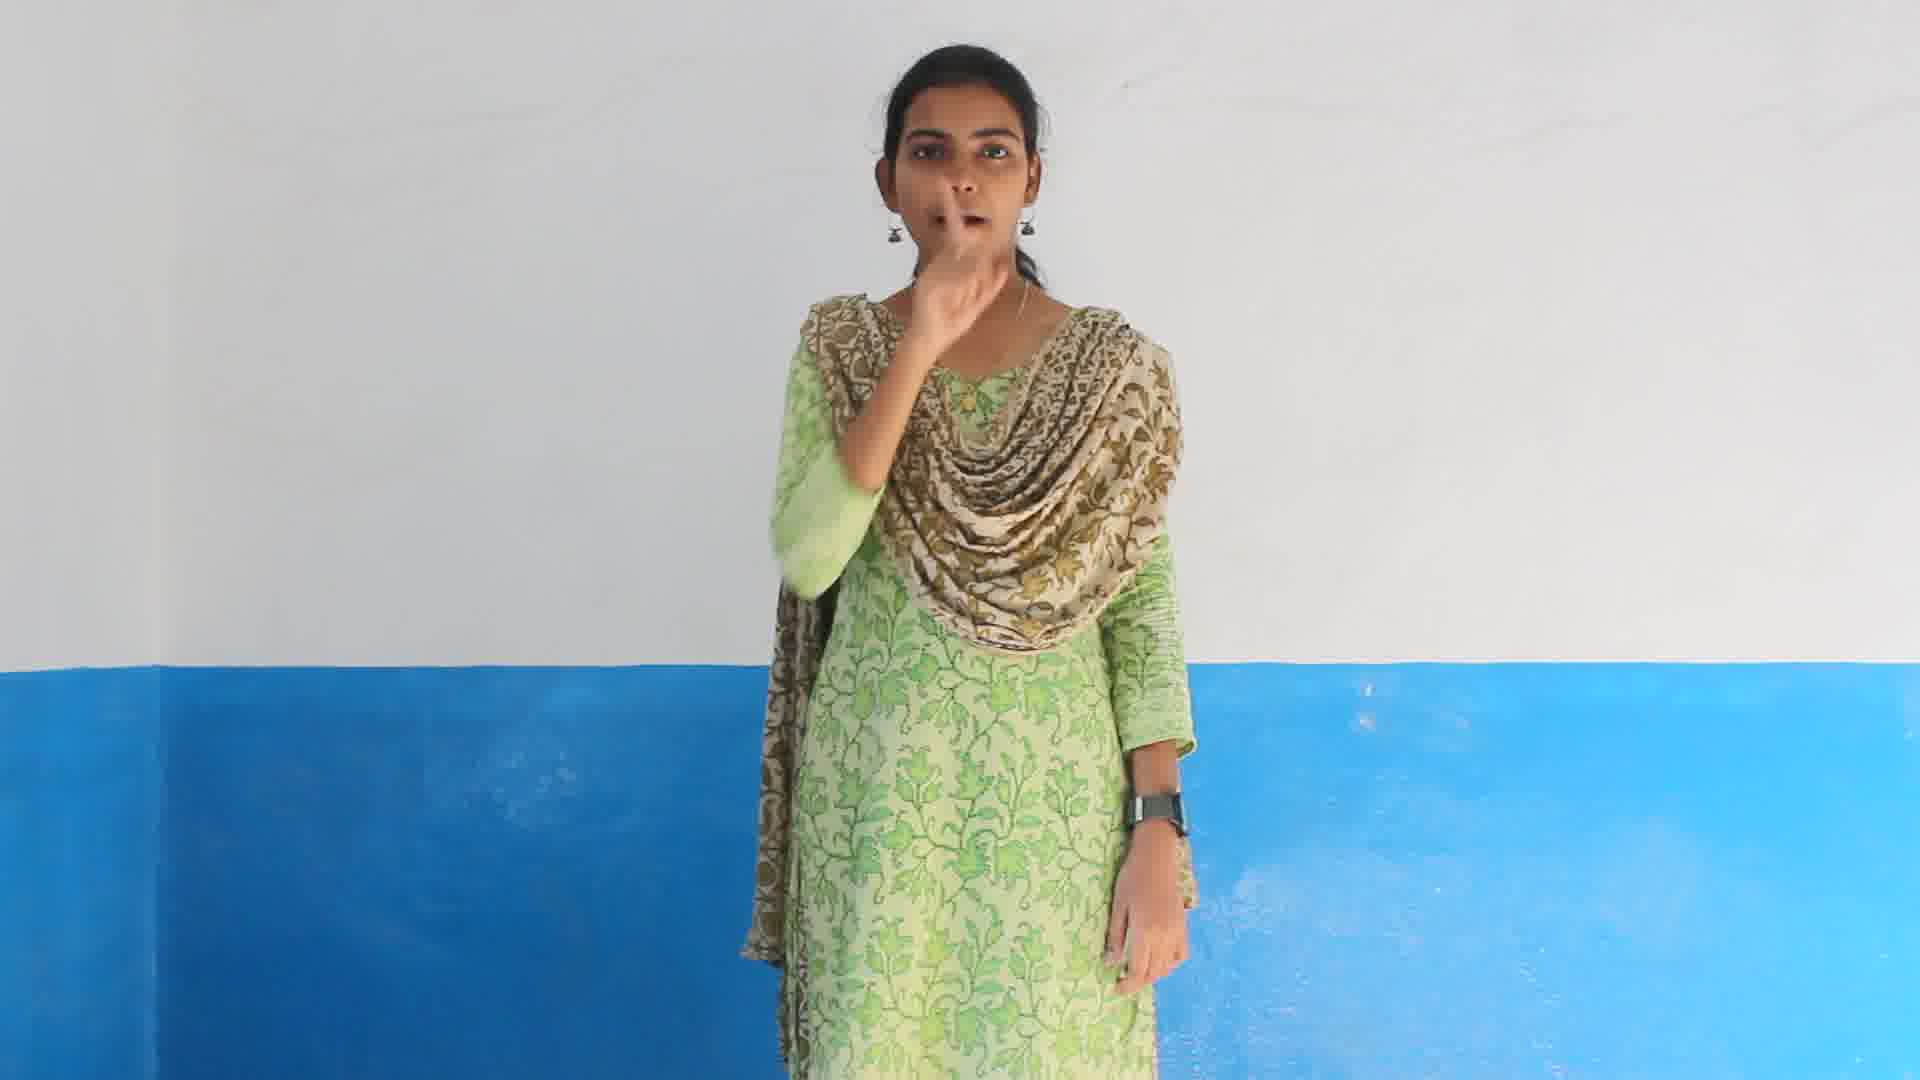quiet: (891, 160, 1021, 352)
